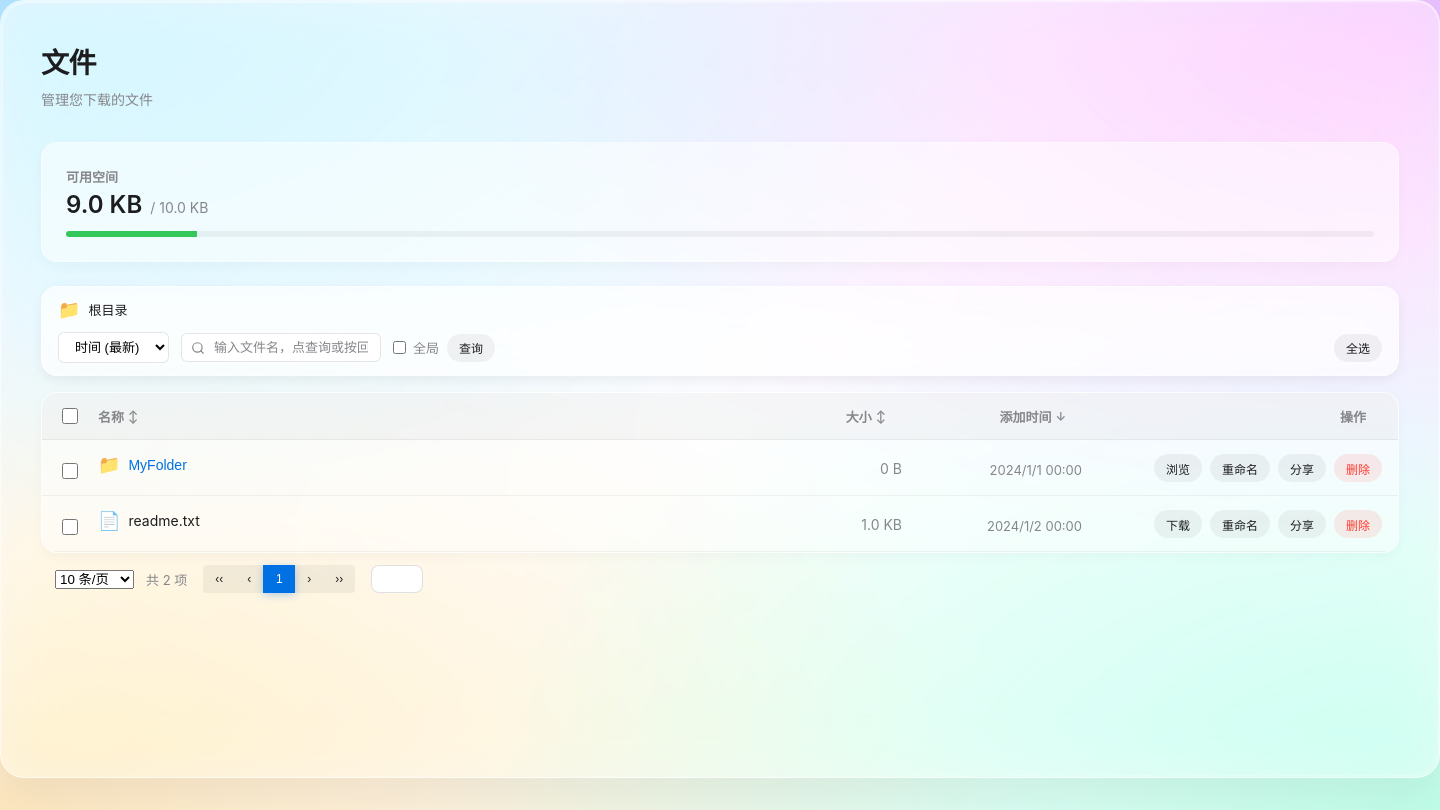
Scenario: Files page search › T20: browse failure toasts an error and keeps the result dialog open
Check: the button "MyFolder" is shown, box x1=128 y1=456 x2=187 y2=472
Type "inner" into the field named "搜索文件".
click(281, 348); type("inner")  # box x1=181 y1=333 x2=381 y2=362
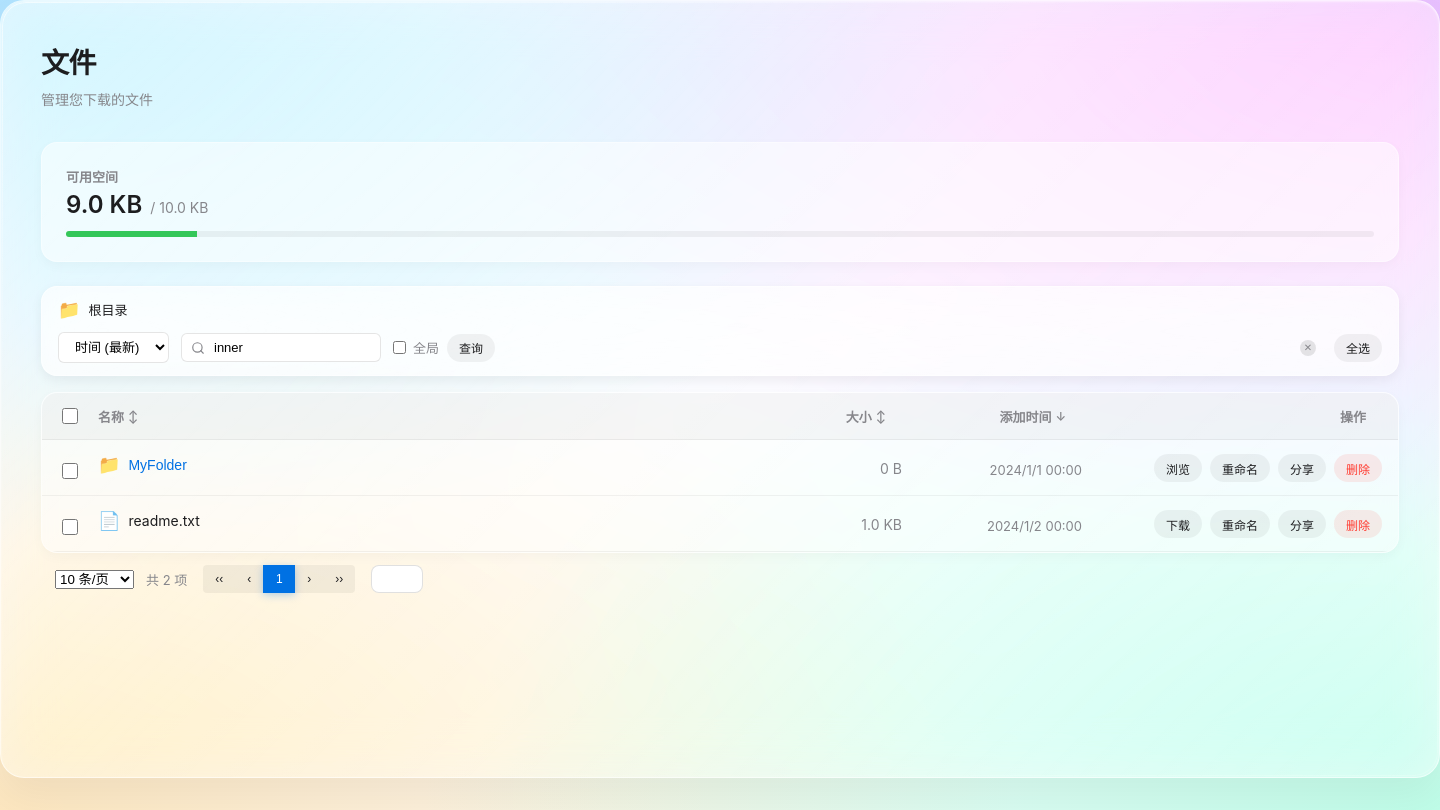
Press Enter in the field named "搜索文件", box x1=181 y1=333 x2=381 y2=362
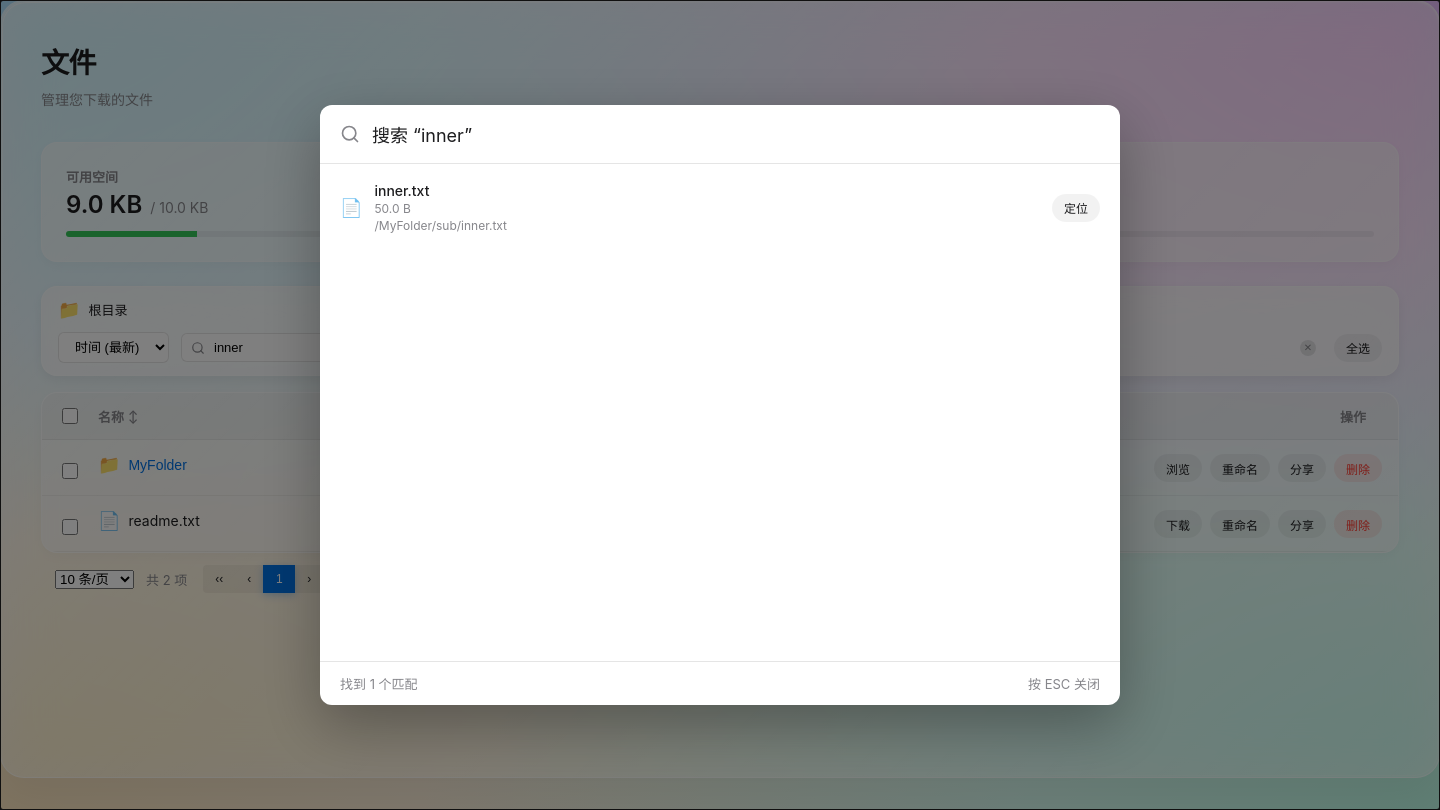
Click the button "定位".
click(1076, 208)  # box x1=1052 y1=194 x2=1100 y2=222
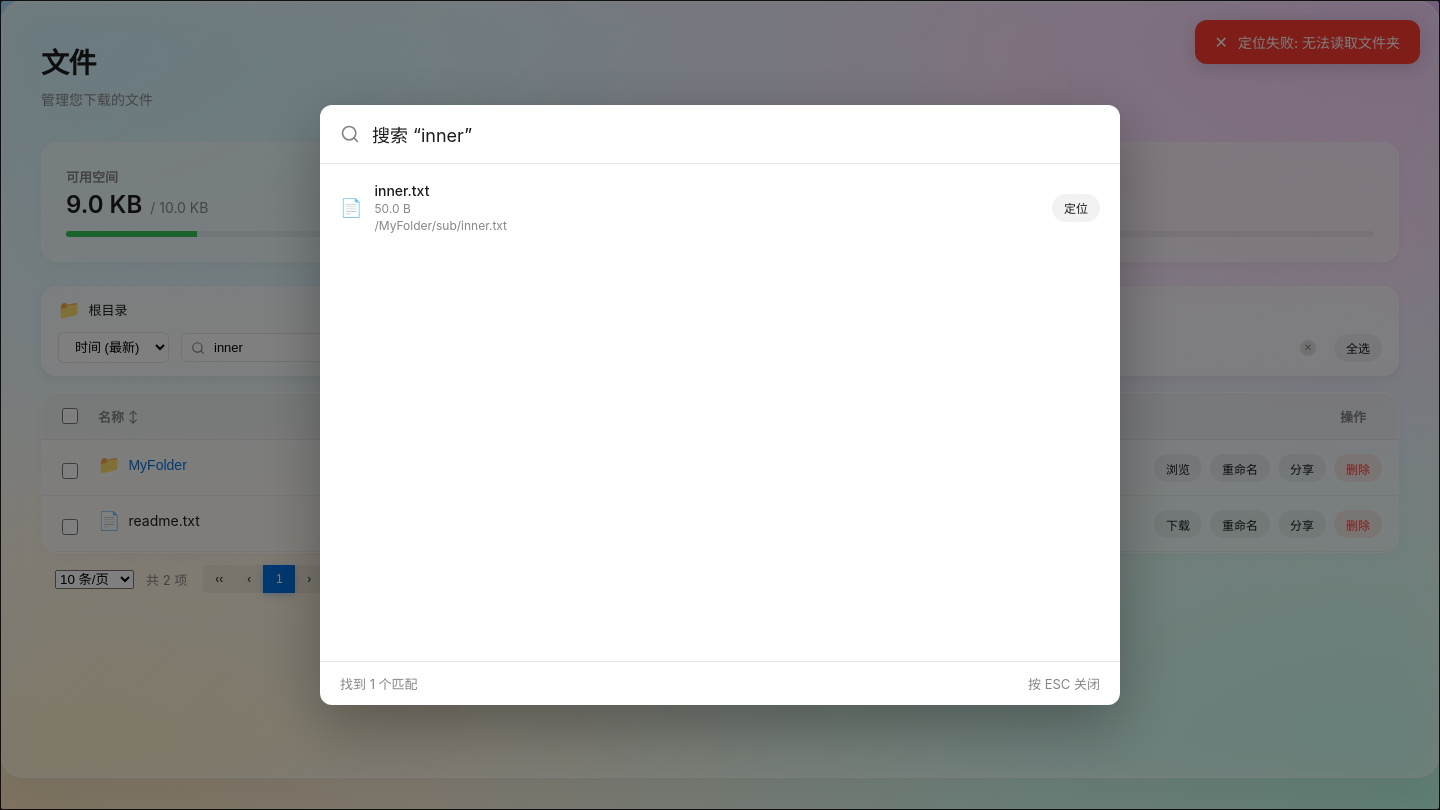
Check: the button "定位" is shown, box x1=1052 y1=194 x2=1100 y2=222
Check: the text "定位失败: 无法读取文件夹" is shown, box x1=1238 y1=32 x2=1400 y2=52
